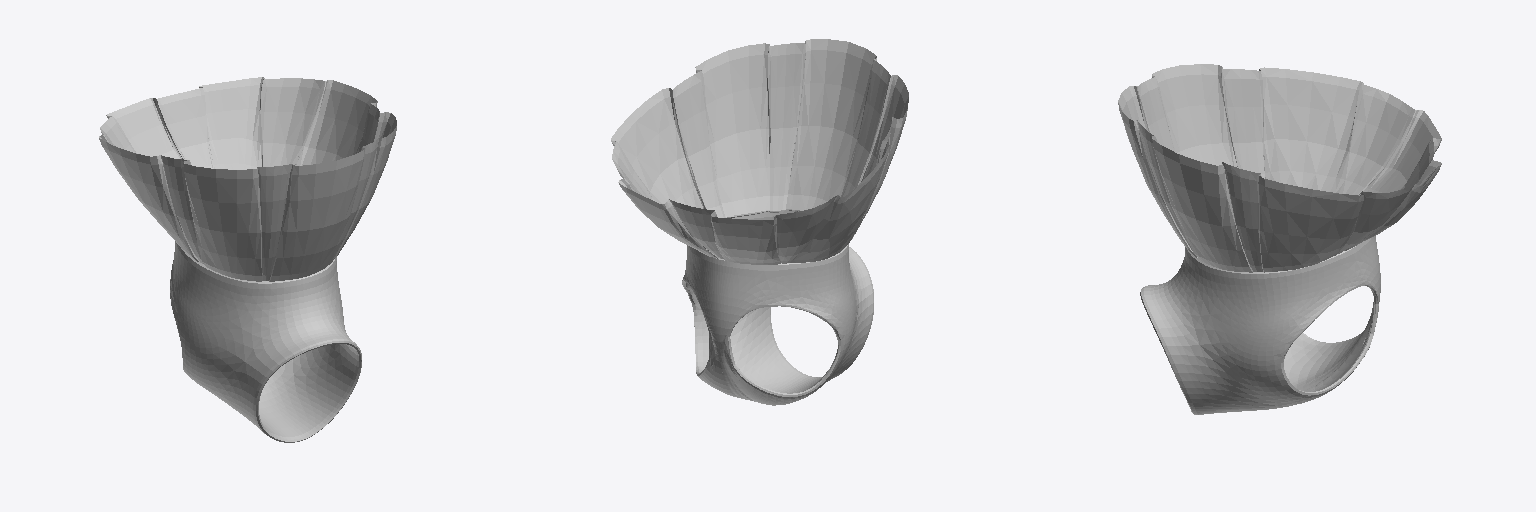
The model's file is dress2.obj.
3 renders of one model, left to right at view 1: azimuth 30°, elevation 25°; view 2: azimuth 150°, elevation 25°; view 3: azimuth 270°, elevation 25°, orthographic.
Visible parts, largest first — view 1: model.cheer_outfit.smd.mesh_0; view 2: model.cheer_outfit.smd.mesh_0; view 3: model.cheer_outfit.smd.mesh_0.
Part boxes in pixels (left/top/right/bottom): model.cheer_outfit.smd.mesh_0: left=99, top=77, right=396, bottom=442; model.cheer_outfit.smd.mesh_0: left=611, top=39, right=908, bottom=405; model.cheer_outfit.smd.mesh_0: left=1118, top=64, right=1441, bottom=414.
Size of the model in its own units: 16.94 by 20.9 by 19.82.